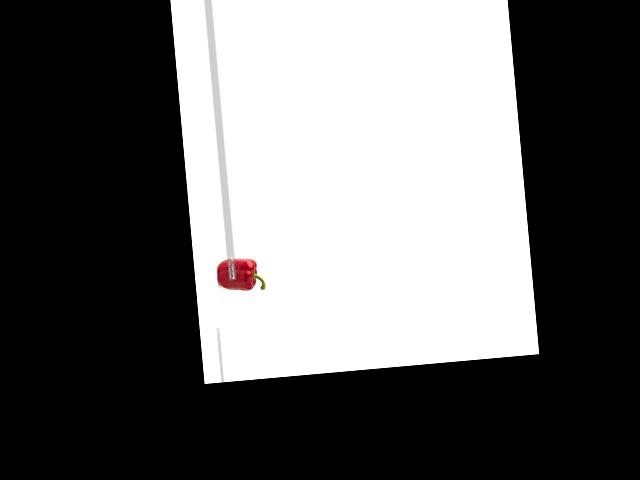bell_pepper: (217, 253, 268, 298)
